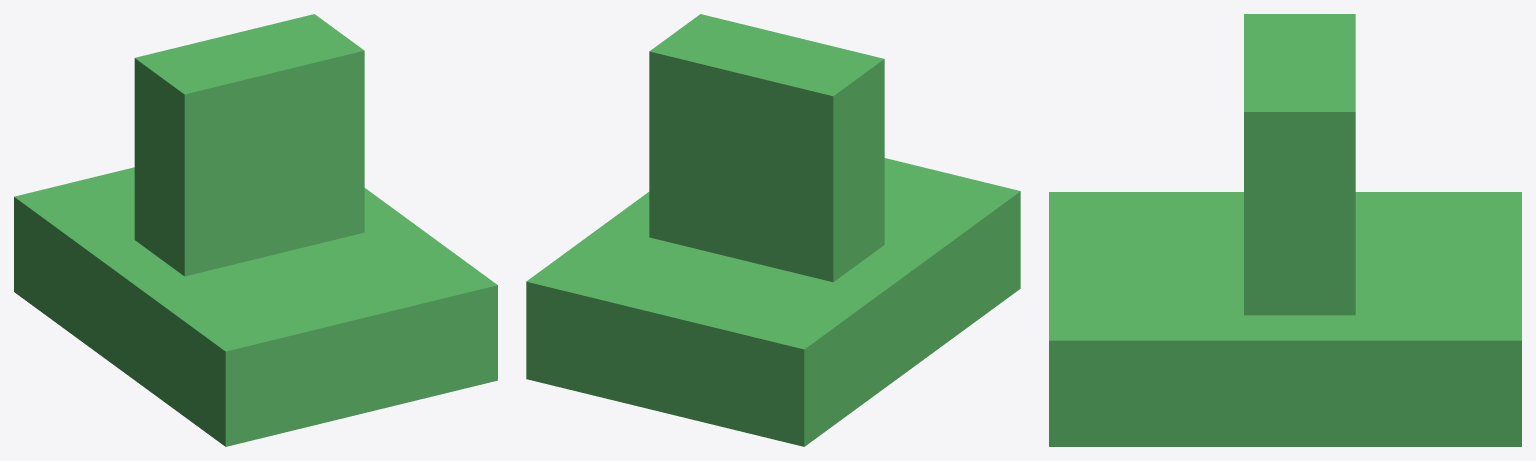
Rendered from catapult_articulated_collision.glb.
The picture shows the model from 3 angles, left to right: view 1: azimuth 30°, elevation 25°; view 2: azimuth 150°, elevation 25°; view 3: azimuth 270°, elevation 25°; orthographic projection. The views are drawn at different scales.
Parts seen in each view (by area): view 1: catapult_articulated-col-chassis, catapult_articulated-col-frame; view 2: catapult_articulated-col-chassis, catapult_articulated-col-frame; view 3: catapult_articulated-col-chassis, catapult_articulated-col-frame.
Boxes of the visible parts, x1,y1,x2,y2 form: catapult_articulated-col-chassis: (14, 167, 497, 446); catapult_articulated-col-frame: (134, 14, 364, 276); catapult_articulated-col-chassis: (526, 158, 1020, 446); catapult_articulated-col-frame: (649, 14, 884, 282); catapult_articulated-col-chassis: (1049, 192, 1521, 446); catapult_articulated-col-frame: (1244, 14, 1355, 315).
Bounding box in the file's own units: 2.45 × 2.39 × 3.3.
